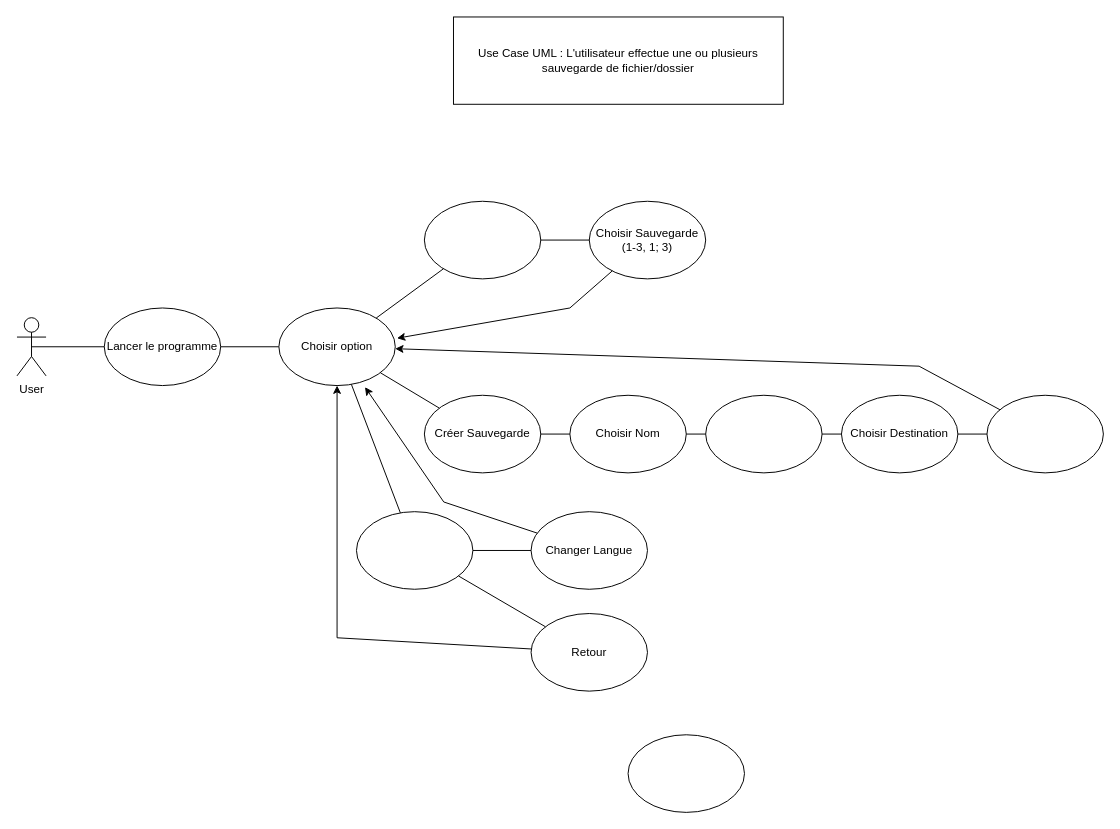
Image size: 1120x829. Some labels were removed from this diagram. The centre of each missing label's shape, as x and y in pixels:
"Choisir son type de sauvegarde" belongs at (x=1044, y=433).
"Choisir Source" belongs at (x=763, y=433).
"En option (Revenir à l'étape d'avant)" belongs at (x=685, y=773).
"Lancer Sauvegarde" belongs at (x=482, y=239).
"Paramètres" belongs at (x=414, y=550).
